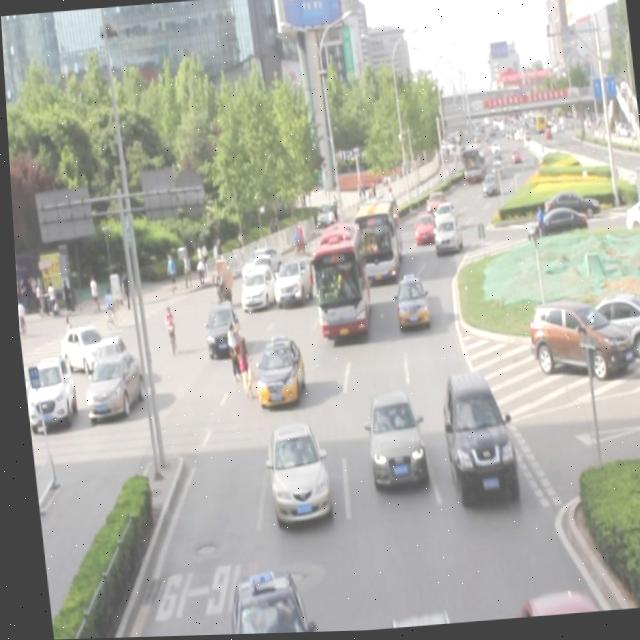car: (431, 371, 510, 499), (259, 425, 325, 529), (358, 394, 420, 488), (216, 568, 301, 636), (249, 339, 303, 406), (507, 586, 591, 621), (268, 252, 311, 309), (199, 301, 241, 356), (387, 276, 424, 334), (235, 263, 276, 310), (381, 608, 445, 630), (428, 212, 459, 257), (410, 211, 431, 246), (431, 205, 454, 236)
van: (306, 225, 368, 340), (351, 198, 400, 288)
